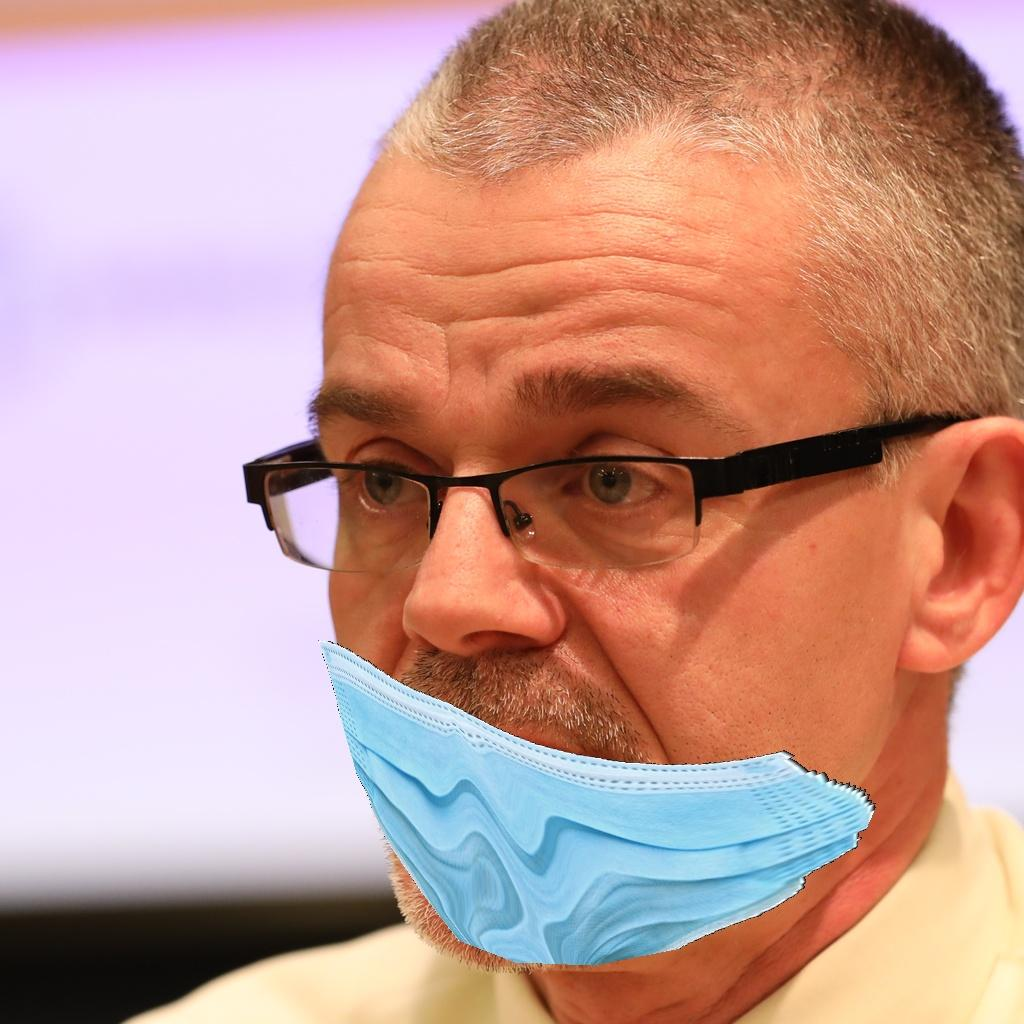Máscara Incorreta: (270, 270, 921, 944)
